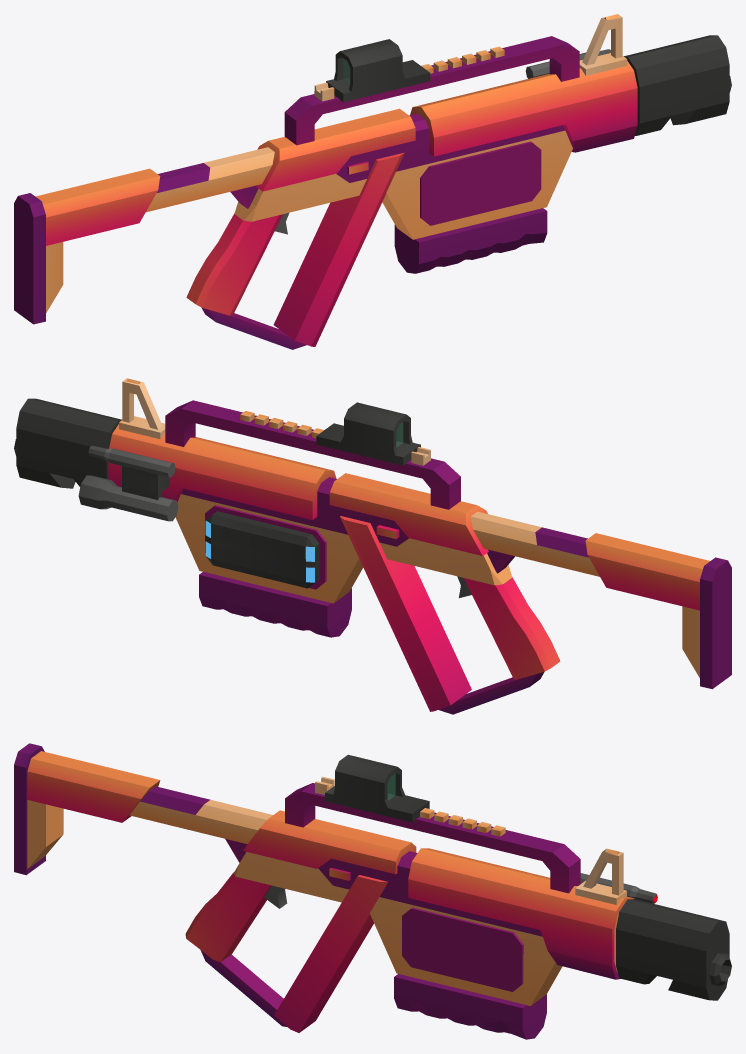
3 renders of one model, top to bottom at view 1: azimuth 30°, elevation 25°; view 2: azimuth 150°, elevation 25°; view 3: azimuth 330°, elevation 25°, orthographic.
Visible parts, largest first — view 1: AR_A_mesh, AR_Silencer_mesh1, Holo_mesh1, ARIronSights_mesh; view 2: AR_A_mesh, AR_Silencer_mesh1, Mag_M_mesh1, LargeLaserCombo_mesh1, Holo_mesh1, ARIronSights_mesh; view 3: AR_A_mesh, AR_Silencer_mesh1, Holo_mesh1, ARIronSights_mesh, LargeLaserCombo_mesh1.
Boxes of the visible parts, bbox=[...] form: AR_A_mesh: bbox=[14, 36, 637, 349]; AR_Silencer_mesh1: bbox=[624, 35, 731, 135]; Holo_mesh1: bbox=[326, 39, 430, 102]; ARIronSights_mesh: bbox=[314, 14, 627, 101]; AR_A_mesh: bbox=[108, 400, 731, 714]; AR_Silencer_mesh1: bbox=[14, 398, 121, 488]; Mag_M_mesh1: bbox=[205, 511, 319, 588]; LargeLaserCombo_mesh1: bbox=[78, 445, 178, 521]; Holo_mesh1: bbox=[316, 402, 420, 465]; ARIronSights_mesh: bbox=[119, 378, 430, 465]; AR_A_mesh: bbox=[14, 743, 633, 1039]; AR_Silencer_mesh1: bbox=[616, 899, 731, 1000]; Holo_mesh1: bbox=[325, 754, 429, 822]; ARIronSights_mesh: bbox=[315, 776, 626, 904]; LargeLaserCombo_mesh1: bbox=[580, 873, 657, 903].
Bounding box in the file's own units: 78.45 × 29.73 × 8.36.
Materials: 3 (1 with a texture image).
